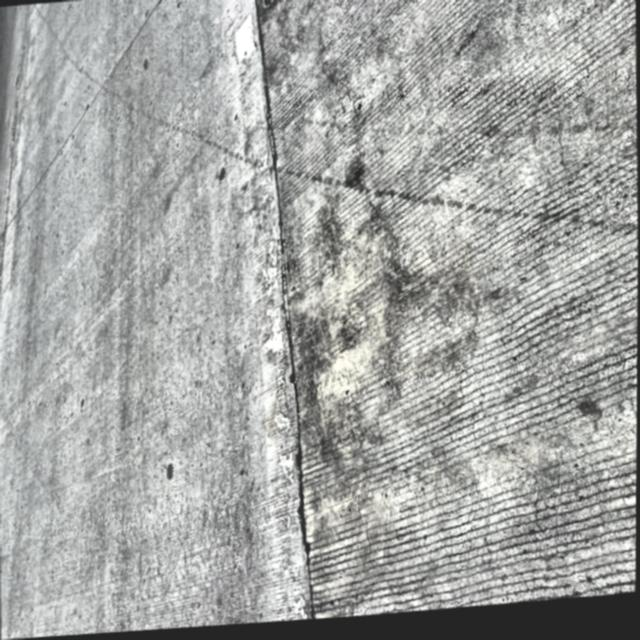no_or_faded_road_markings: (231, 2, 288, 622)
